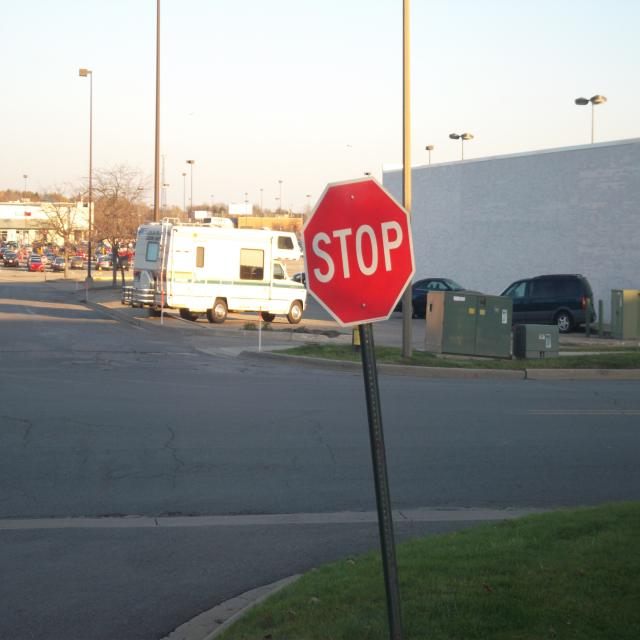stop: (298, 174, 423, 331)
